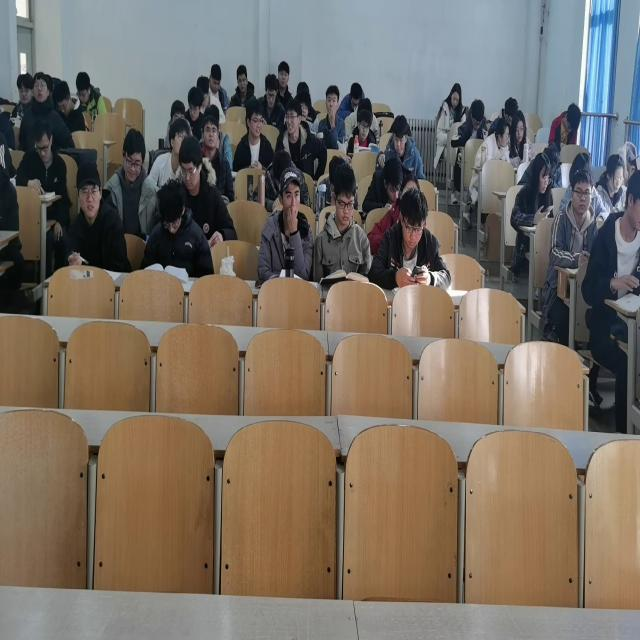bow: (264, 148, 310, 212), (361, 153, 403, 214), (474, 116, 511, 168), (450, 98, 488, 148), (339, 80, 366, 119)
down: (399, 187, 429, 251), (158, 178, 187, 236), (332, 164, 356, 228), (179, 134, 203, 193), (122, 127, 146, 184), (32, 118, 53, 164), (382, 157, 403, 203), (532, 150, 552, 194), (606, 152, 626, 192), (392, 112, 410, 153), (54, 79, 72, 117), (188, 86, 204, 121), (564, 102, 581, 134), (76, 70, 91, 105), (264, 74, 279, 108), (511, 108, 526, 142), (471, 99, 485, 132), (210, 62, 222, 94), (350, 82, 362, 110), (451, 81, 462, 109)
lookup: (75, 158, 103, 219), (278, 166, 302, 224), (570, 168, 594, 214), (168, 118, 190, 158), (245, 96, 264, 138), (285, 98, 303, 134), (32, 70, 50, 105), (202, 114, 219, 150), (16, 70, 33, 105), (325, 84, 340, 116), (357, 108, 372, 140), (236, 63, 248, 92), (278, 61, 290, 88)
sit: (368, 185, 453, 290), (64, 158, 132, 273), (580, 170, 640, 299), (141, 178, 214, 276), (176, 132, 237, 248), (312, 165, 371, 282), (257, 165, 314, 286), (105, 126, 161, 238), (549, 167, 599, 267), (19, 70, 76, 153), (276, 98, 327, 181), (15, 118, 68, 194), (510, 149, 555, 227), (200, 113, 236, 205), (147, 116, 190, 193), (232, 95, 274, 170), (376, 114, 424, 178), (52, 79, 89, 131), (595, 152, 627, 212), (318, 82, 346, 150), (508, 109, 537, 170), (435, 81, 462, 141), (548, 101, 581, 150), (345, 107, 377, 156), (259, 70, 286, 128), (75, 70, 106, 118), (229, 63, 256, 109), (185, 82, 206, 141), (208, 61, 228, 110), (276, 59, 293, 110)
